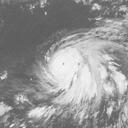cyclone: (37, 31, 109, 103)
